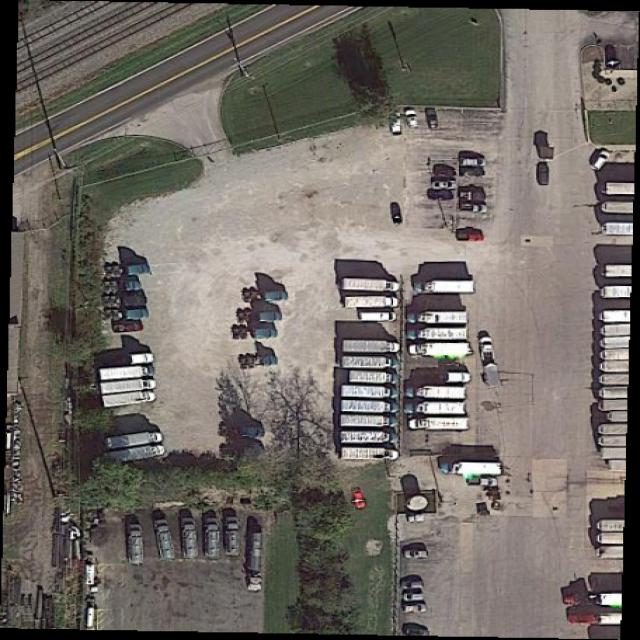large-vehicle: (104, 445, 164, 468), (479, 336, 502, 387), (108, 432, 163, 452), (101, 378, 157, 396), (152, 522, 177, 560), (101, 364, 156, 381), (410, 327, 469, 342), (104, 390, 156, 407), (98, 353, 156, 368), (407, 311, 469, 325), (445, 462, 501, 477), (341, 447, 396, 462), (250, 534, 264, 592), (181, 519, 201, 559), (340, 414, 397, 428), (342, 386, 399, 400), (407, 402, 466, 415), (411, 343, 470, 356), (408, 387, 467, 400), (341, 432, 399, 445), (417, 281, 474, 294), (344, 279, 400, 292), (410, 419, 470, 431), (413, 373, 472, 385), (341, 358, 399, 370), (344, 341, 397, 354), (204, 521, 222, 558), (226, 517, 243, 556), (129, 525, 146, 564), (349, 373, 400, 386), (344, 402, 399, 414), (347, 298, 397, 309), (225, 426, 267, 438), (362, 313, 396, 322)
small-vehicle: (588, 148, 613, 172), (111, 321, 145, 333), (351, 490, 369, 511), (456, 231, 486, 242), (460, 202, 487, 214), (460, 190, 487, 202), (390, 204, 404, 226), (459, 157, 488, 167), (404, 110, 420, 128), (431, 180, 458, 190), (428, 191, 455, 201), (459, 167, 487, 176), (538, 163, 549, 185), (390, 113, 401, 135), (427, 110, 439, 129), (404, 604, 428, 613), (401, 581, 425, 590), (404, 550, 429, 558), (436, 170, 458, 179), (404, 594, 425, 602)
storage-tank: (408, 495, 429, 511)
